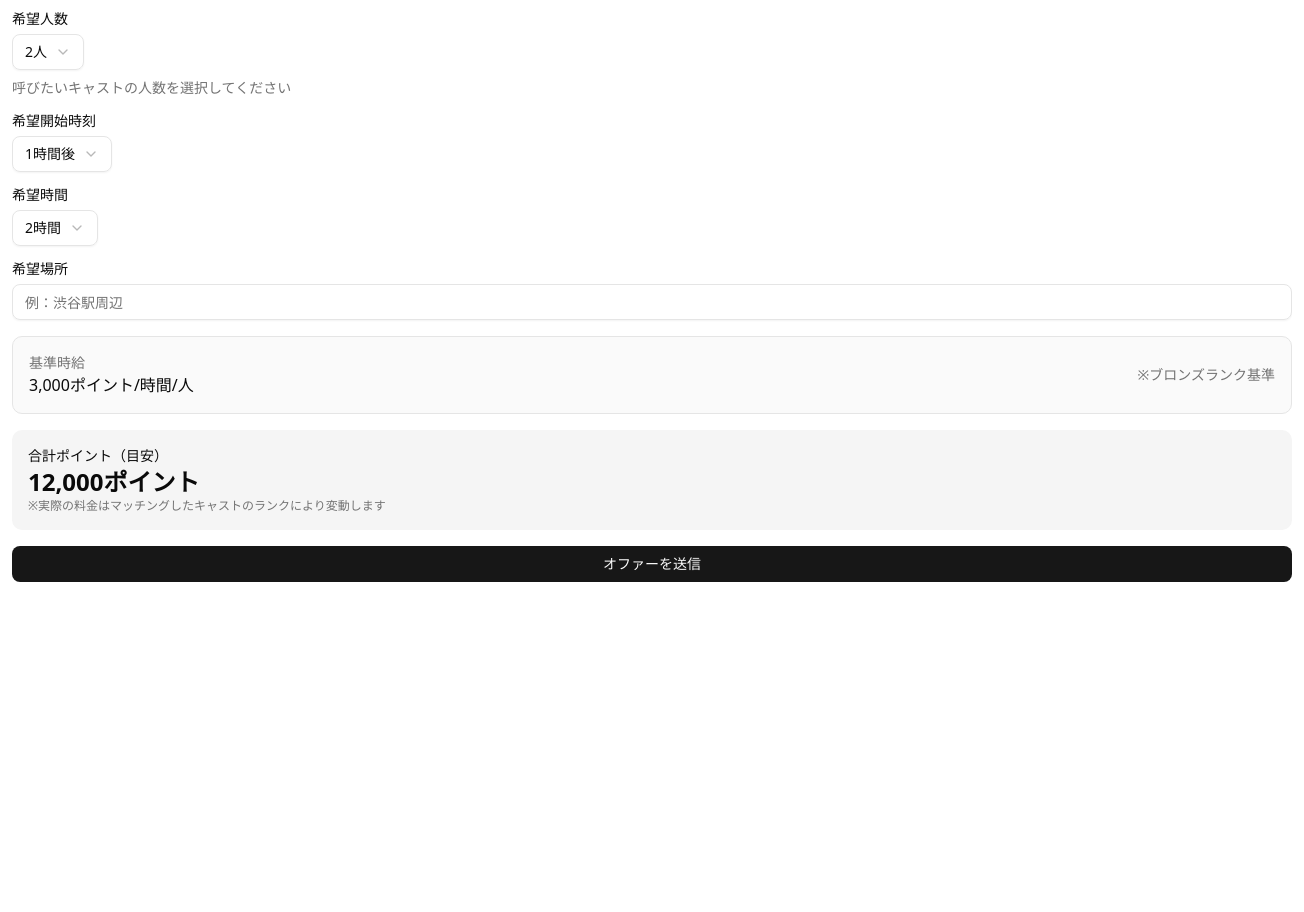
Test: GroupMatchingOfferForm › 合計ポイント計算 › 人数と時間の両方を変更した場合の計算
This screenshot has width=1304, height=912.
Click the dropdown labelled "2人". click: (48,52)
box: top-left (12, 34), bottom-right (84, 70)
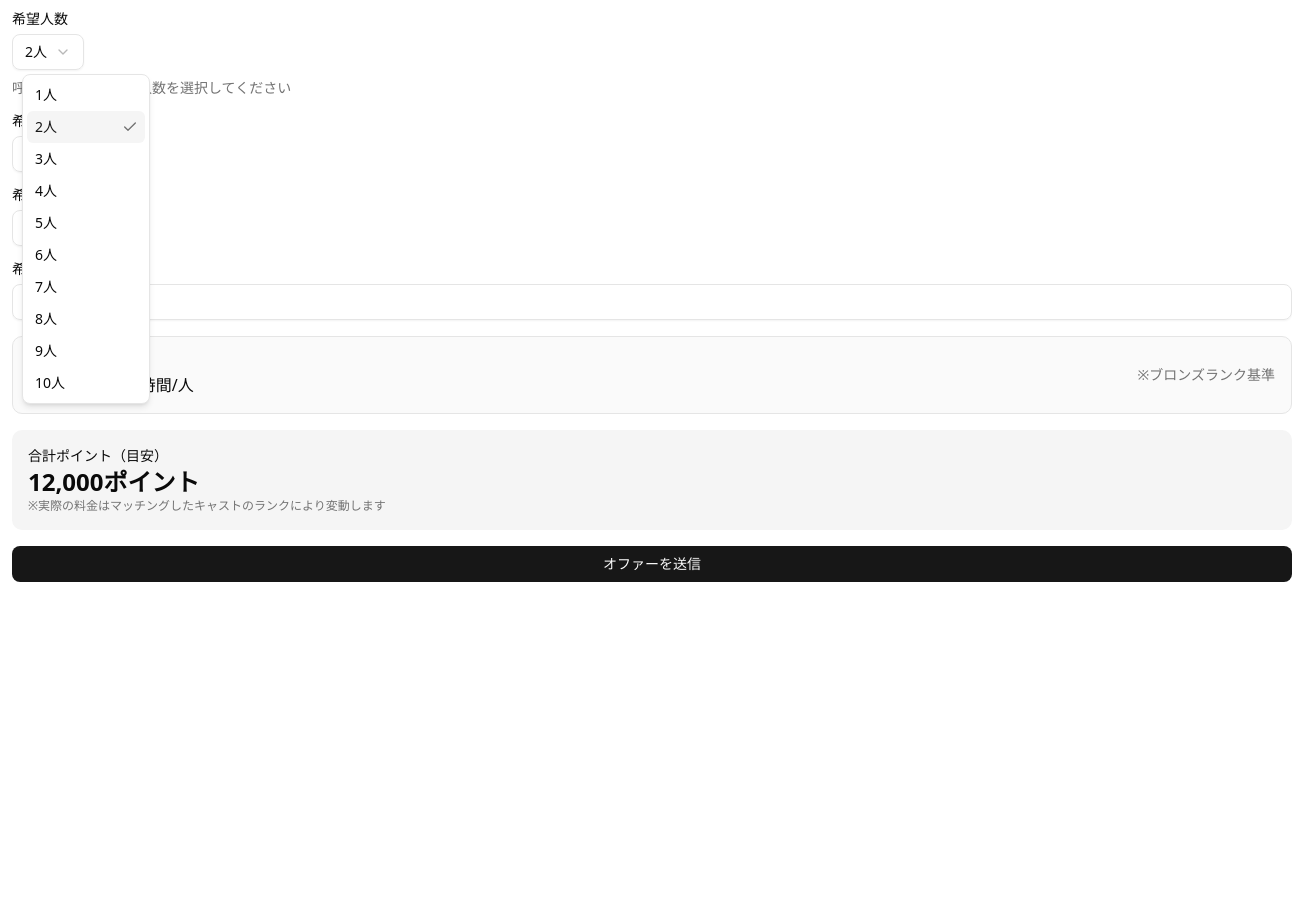
Click the option "3人". click: (46,158)
box: top-left (35, 149), bottom-right (57, 168)
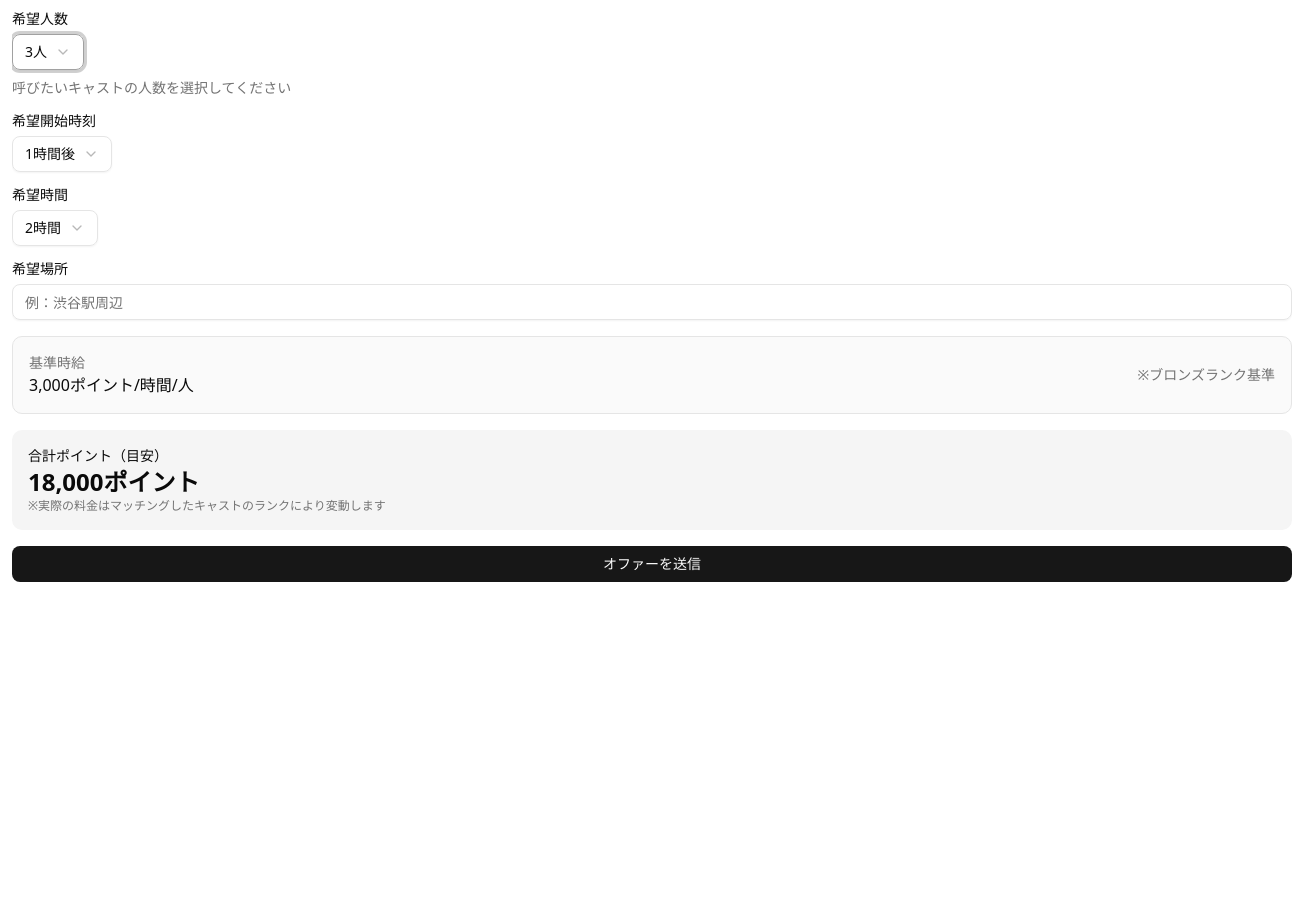
Click the dropdown labelled "2時間". click: (55,228)
box: top-left (12, 210), bottom-right (98, 246)
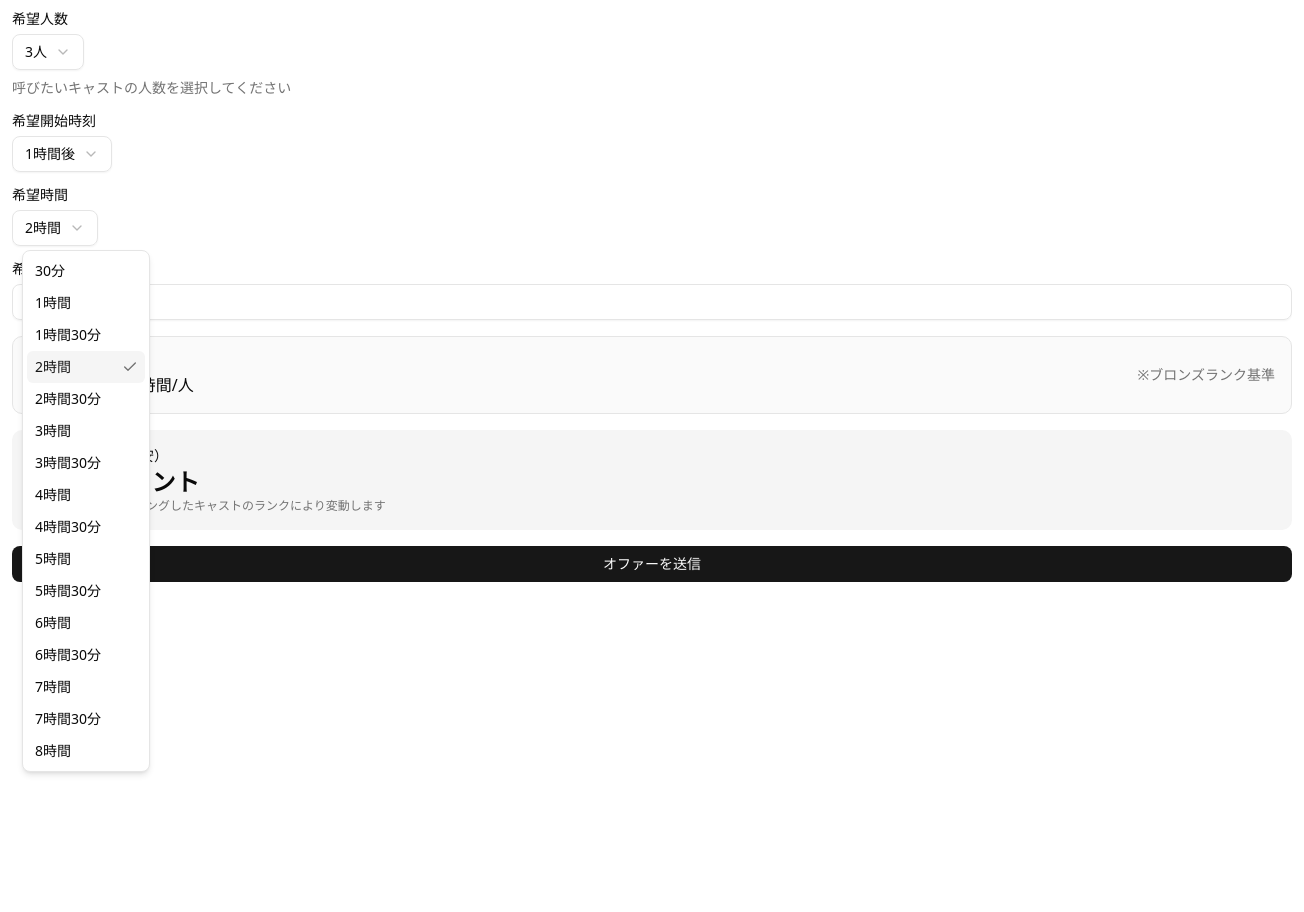
Click the option "1時間30分". click: (68,334)
box: top-left (35, 325), bottom-right (101, 344)
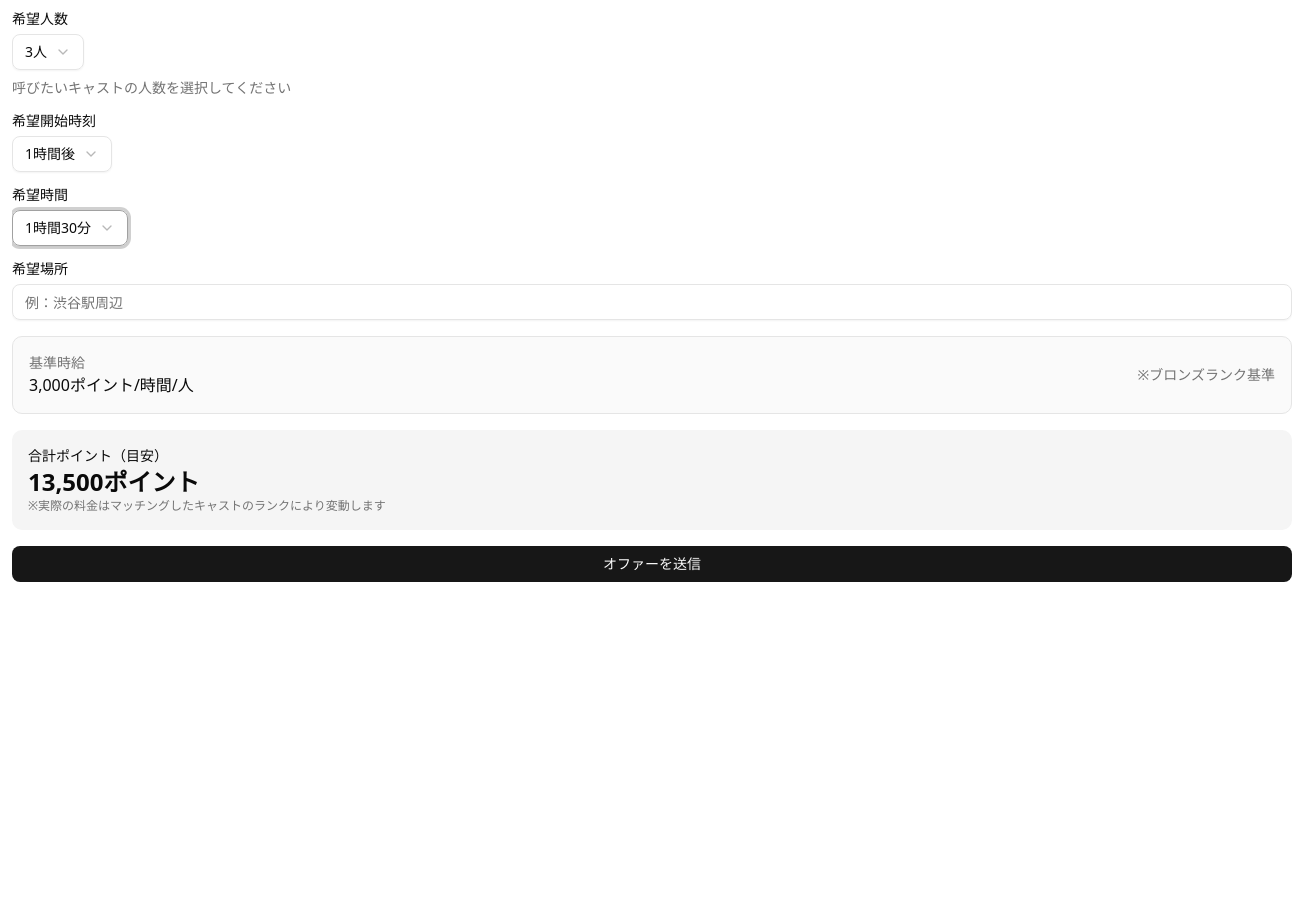
Check: the text "13,500ポイント" is shown, box top-left (28, 465), bottom-right (200, 498)
